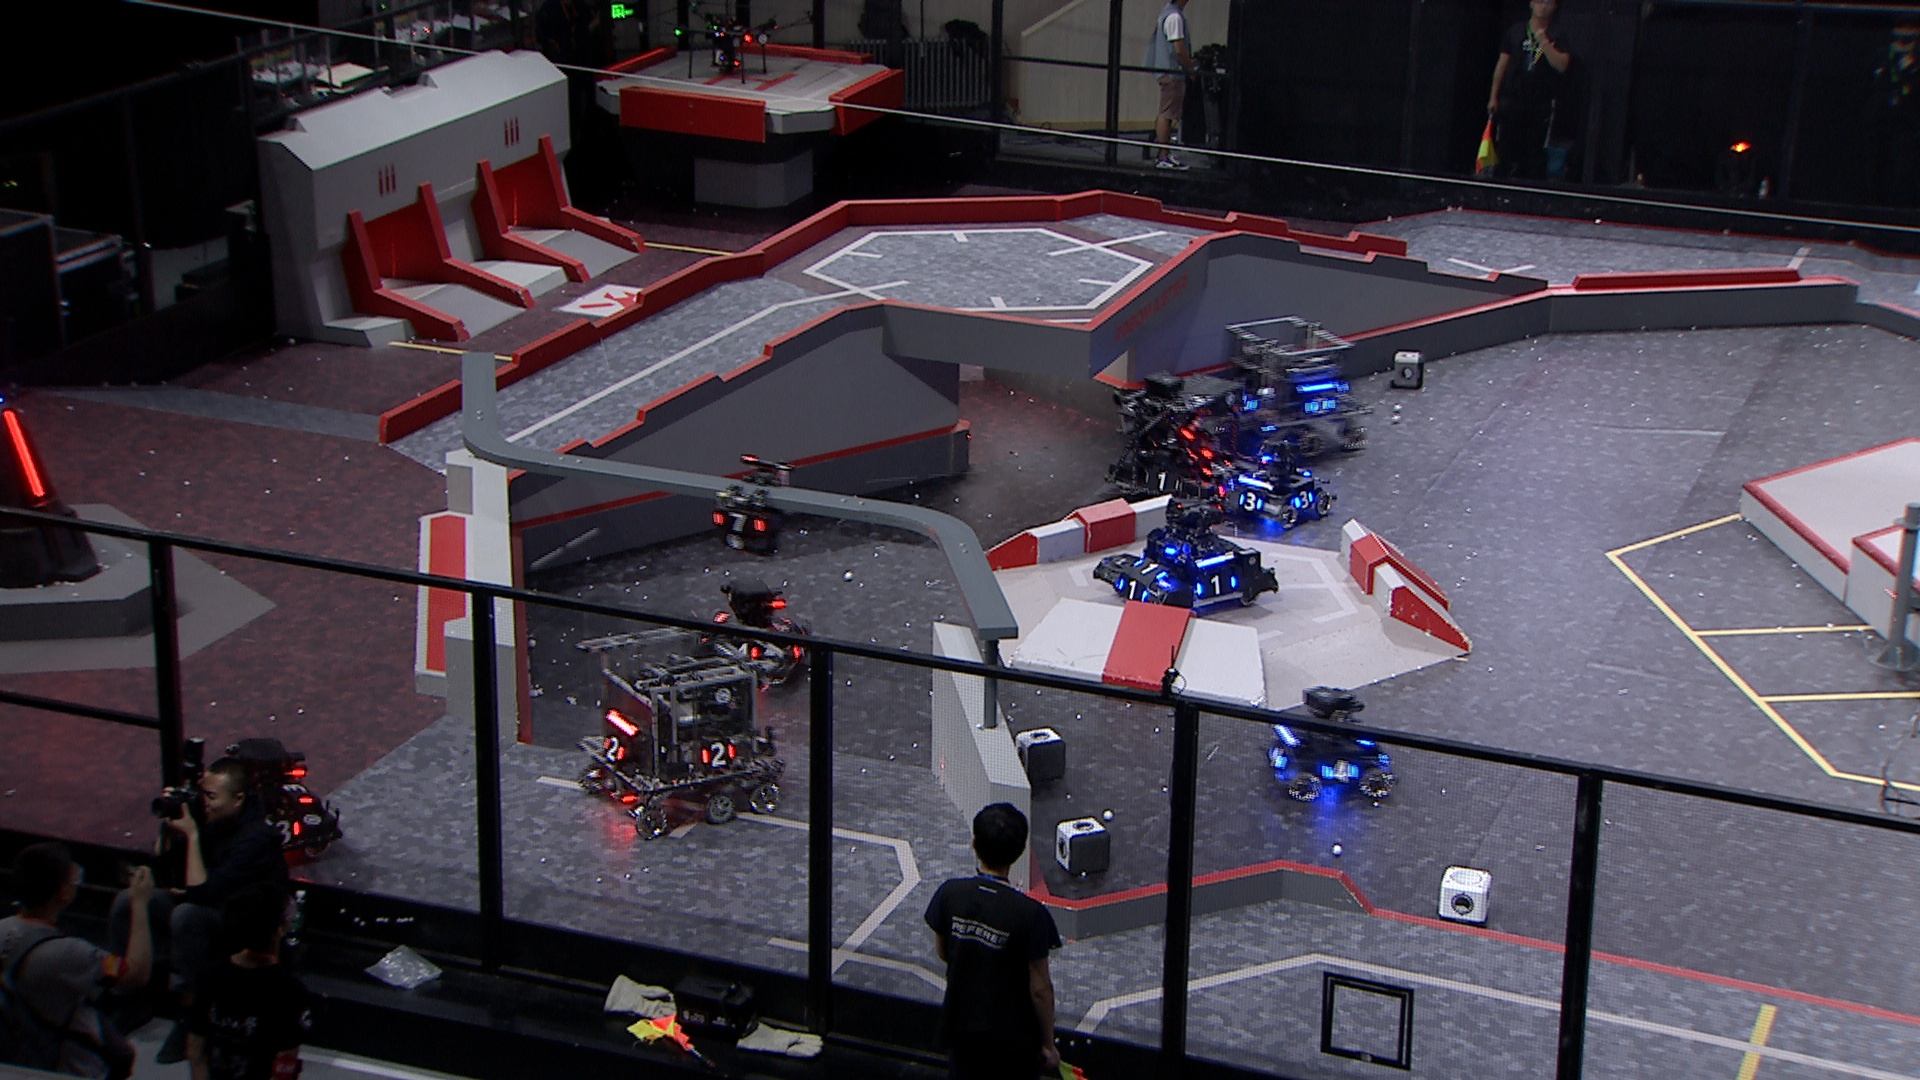armor: (3, 407, 46, 500), (709, 512, 767, 535), (698, 741, 740, 770), (1195, 574, 1237, 599), (1321, 760, 1362, 785), (1117, 578, 1153, 604), (282, 781, 315, 808), (1143, 472, 1182, 495), (268, 820, 302, 844), (1133, 559, 1171, 580), (600, 737, 629, 765), (1237, 491, 1269, 514), (731, 641, 764, 662), (1307, 394, 1337, 415), (770, 615, 794, 637), (1269, 745, 1290, 770), (1201, 462, 1236, 476), (1290, 491, 1313, 509)
car: (570, 622, 789, 844), (1091, 491, 1278, 622), (1215, 313, 1371, 463), (1102, 367, 1254, 514), (195, 740, 342, 865), (1259, 683, 1400, 806), (698, 578, 807, 690), (1218, 433, 1333, 529)
watcher: (704, 456, 800, 560)
